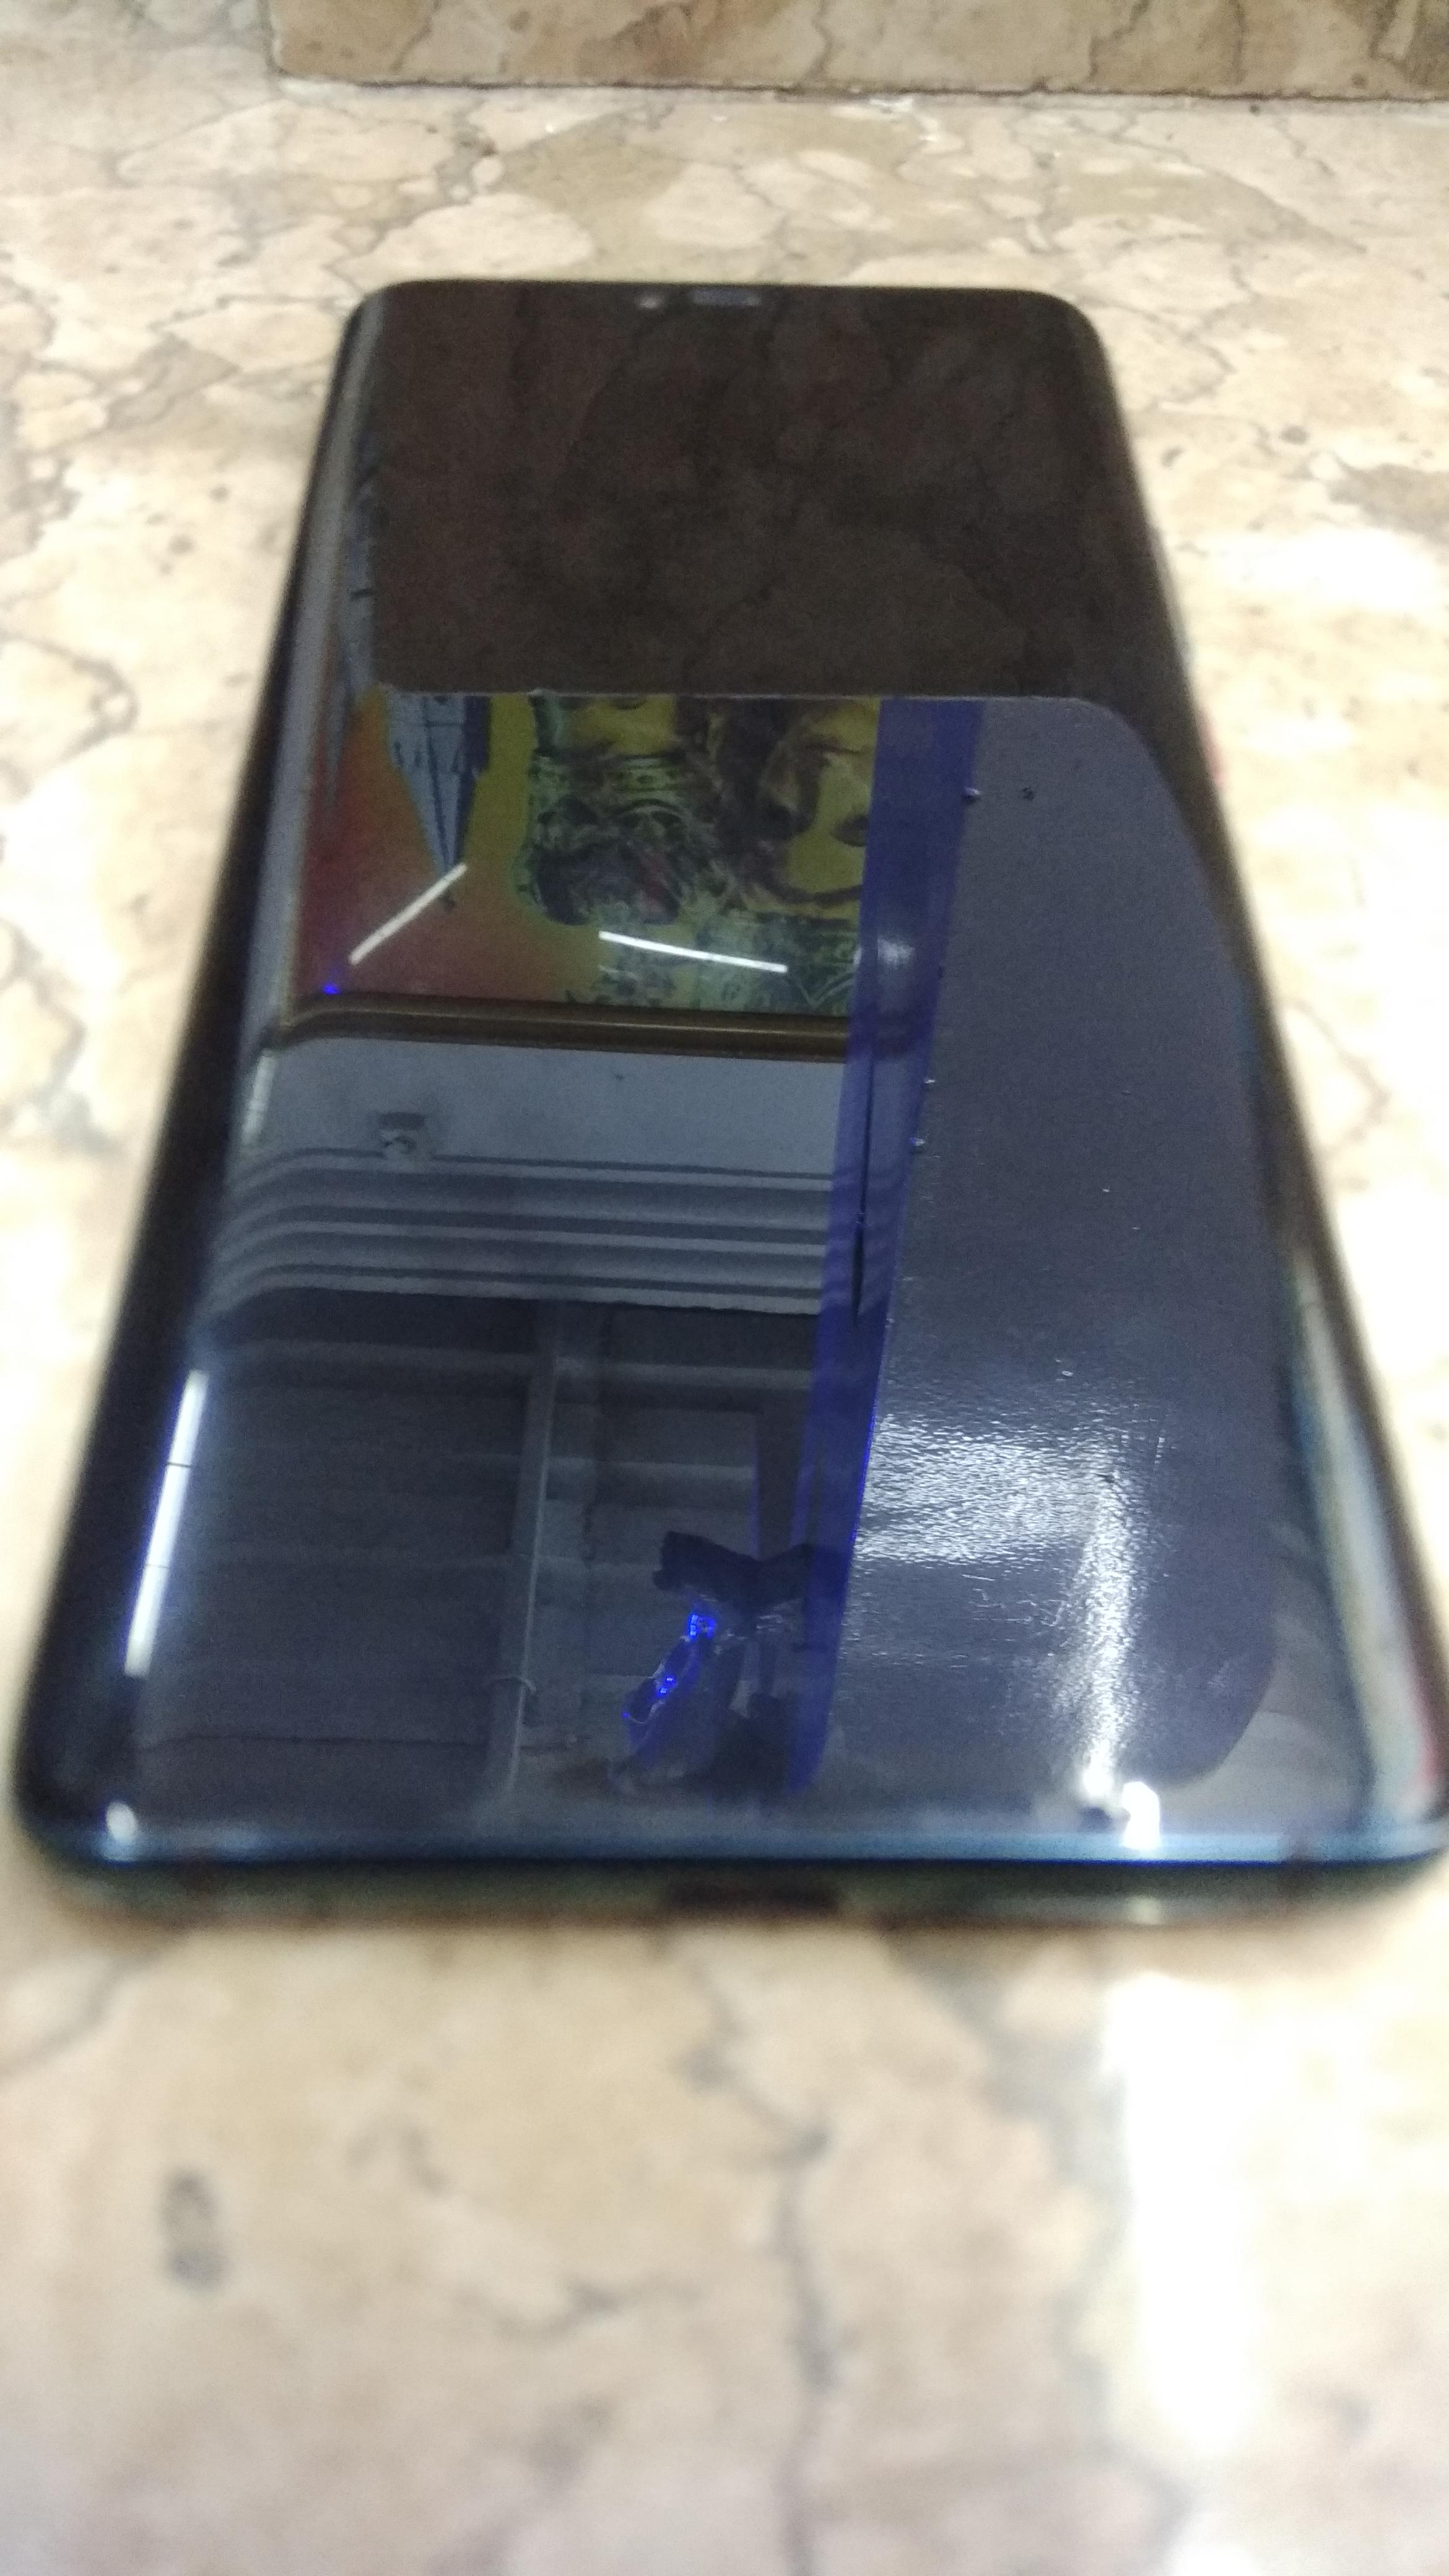Phone: (21, 221, 1449, 1966)
